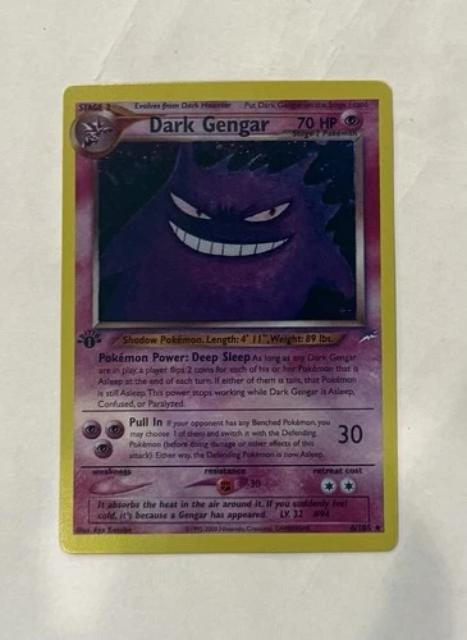Card: (54, 76, 403, 559)
Name: (143, 113, 275, 139)
